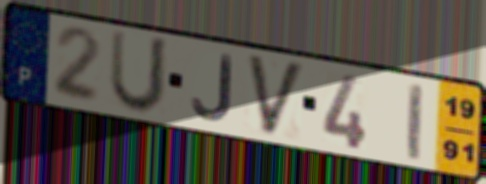2: (52, 24, 103, 108)
4: (318, 69, 370, 153)
I: (406, 79, 425, 164)
J: (189, 52, 234, 124)
U: (106, 26, 172, 117)
V: (244, 51, 309, 140)
